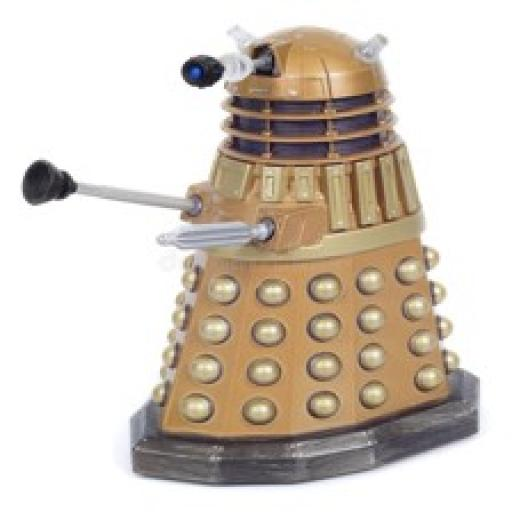dalek: (12, 23, 479, 484)
